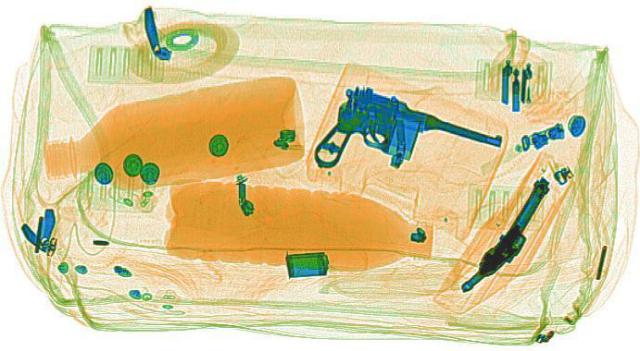Gun: (266, 81, 514, 200), (456, 175, 560, 296)
